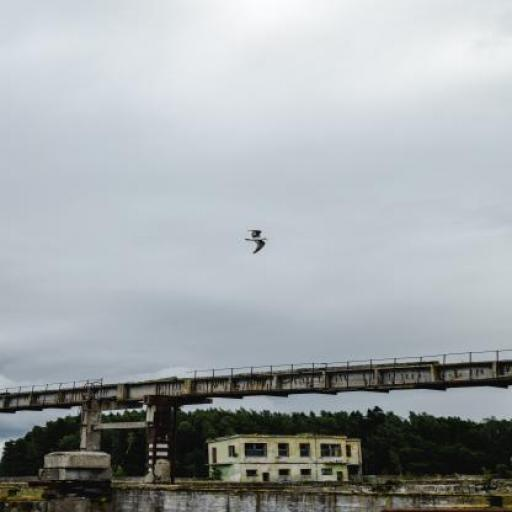bird: (244, 230, 270, 255)
